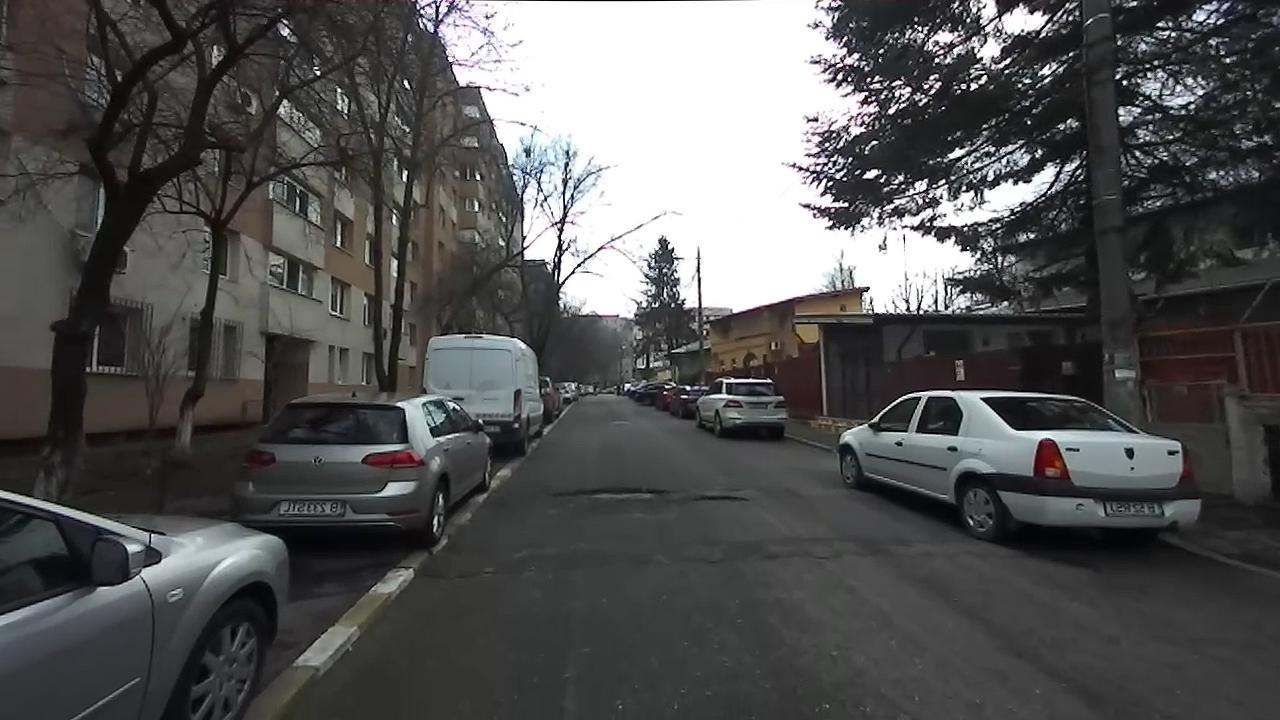pothole: (548, 483, 673, 504), (687, 492, 750, 505)
